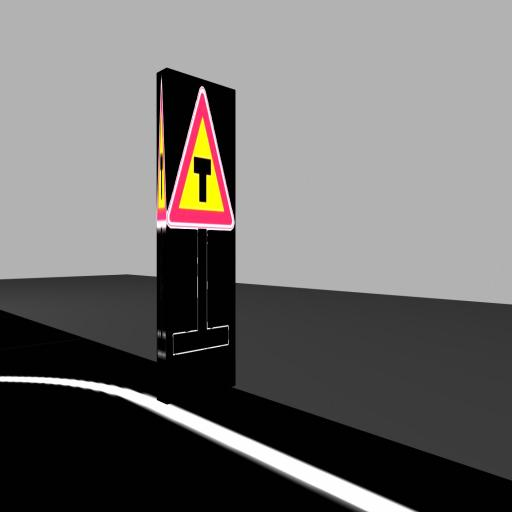Intersection: (167, 87, 234, 230), (157, 78, 166, 230)
